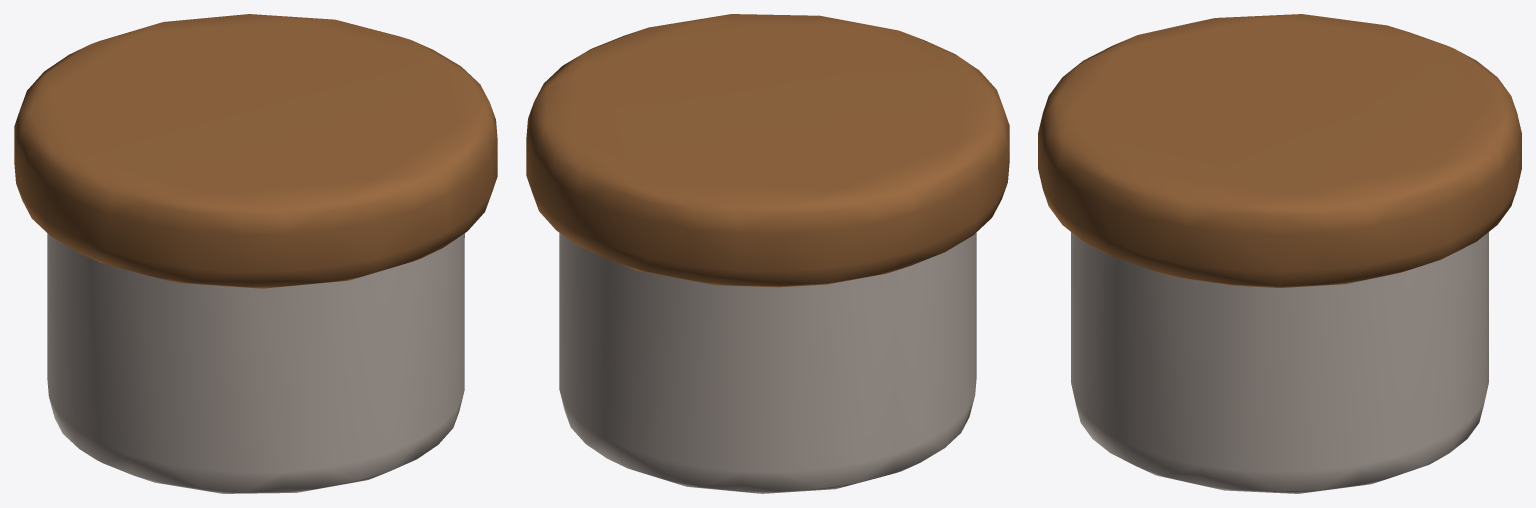
The model's file is stool_03_brown_light.fbx.
3 views of the same model, side by side, from view 1: azimuth 30°, elevation 25°; view 2: azimuth 150°, elevation 25°; view 3: azimuth 270°, elevation 25° (orthographic).
Parts seen in each view (by area): view 1: stool_03_brown_light; view 2: stool_03_brown_light; view 3: stool_03_brown_light.
Part boxes in pixels (x1,y1,x2,y2): stool_03_brown_light: [14, 14, 497, 493]; stool_03_brown_light: [526, 14, 1009, 493]; stool_03_brown_light: [1038, 14, 1521, 493].
Size of the model in its own units: 56.81 by 39.98 by 56.81.
Materials: 1 (1 with a texture image).
